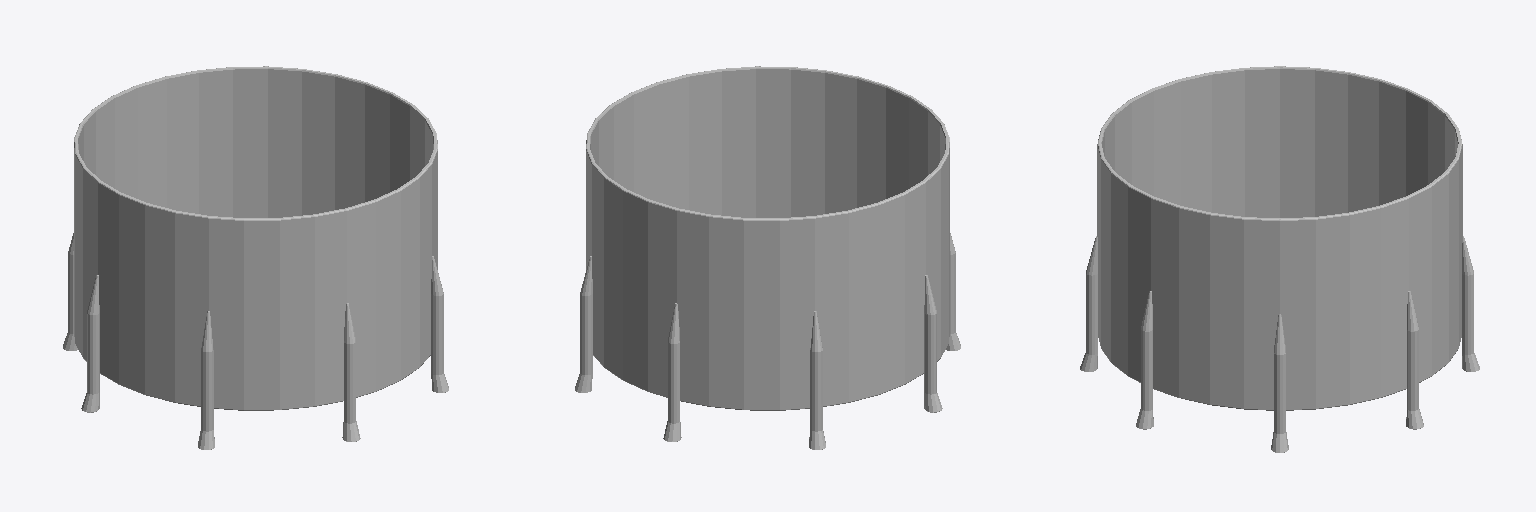
File: Saturn V_8.obj
3 views of the same model, side by side, from view 1: azimuth 30°, elevation 25°; view 2: azimuth 150°, elevation 25°; view 3: azimuth 270°, elevation 25° (orthographic).
Visible parts, largest first — view 1: Second_Stage_Interstage_Cylinder.013, Cylinder.001_Cylinder.010; view 2: Second_Stage_Interstage_Cylinder.013, Cylinder.001_Cylinder.010; view 3: Second_Stage_Interstage_Cylinder.013, Cylinder.001_Cylinder.010.
Boxes of the visible parts, x1,y1,x2,y2 form: Second_Stage_Interstage_Cylinder.013: [74, 66, 437, 410]; Cylinder.001_Cylinder.010: [63, 233, 448, 449]; Second_Stage_Interstage_Cylinder.013: [586, 66, 949, 410]; Cylinder.001_Cylinder.010: [575, 233, 960, 449]; Second_Stage_Interstage_Cylinder.013: [1097, 66, 1462, 410]; Cylinder.001_Cylinder.010: [1080, 236, 1479, 452].
Bounding box in the file's own units: 11.08 × 6.9 × 11.08.